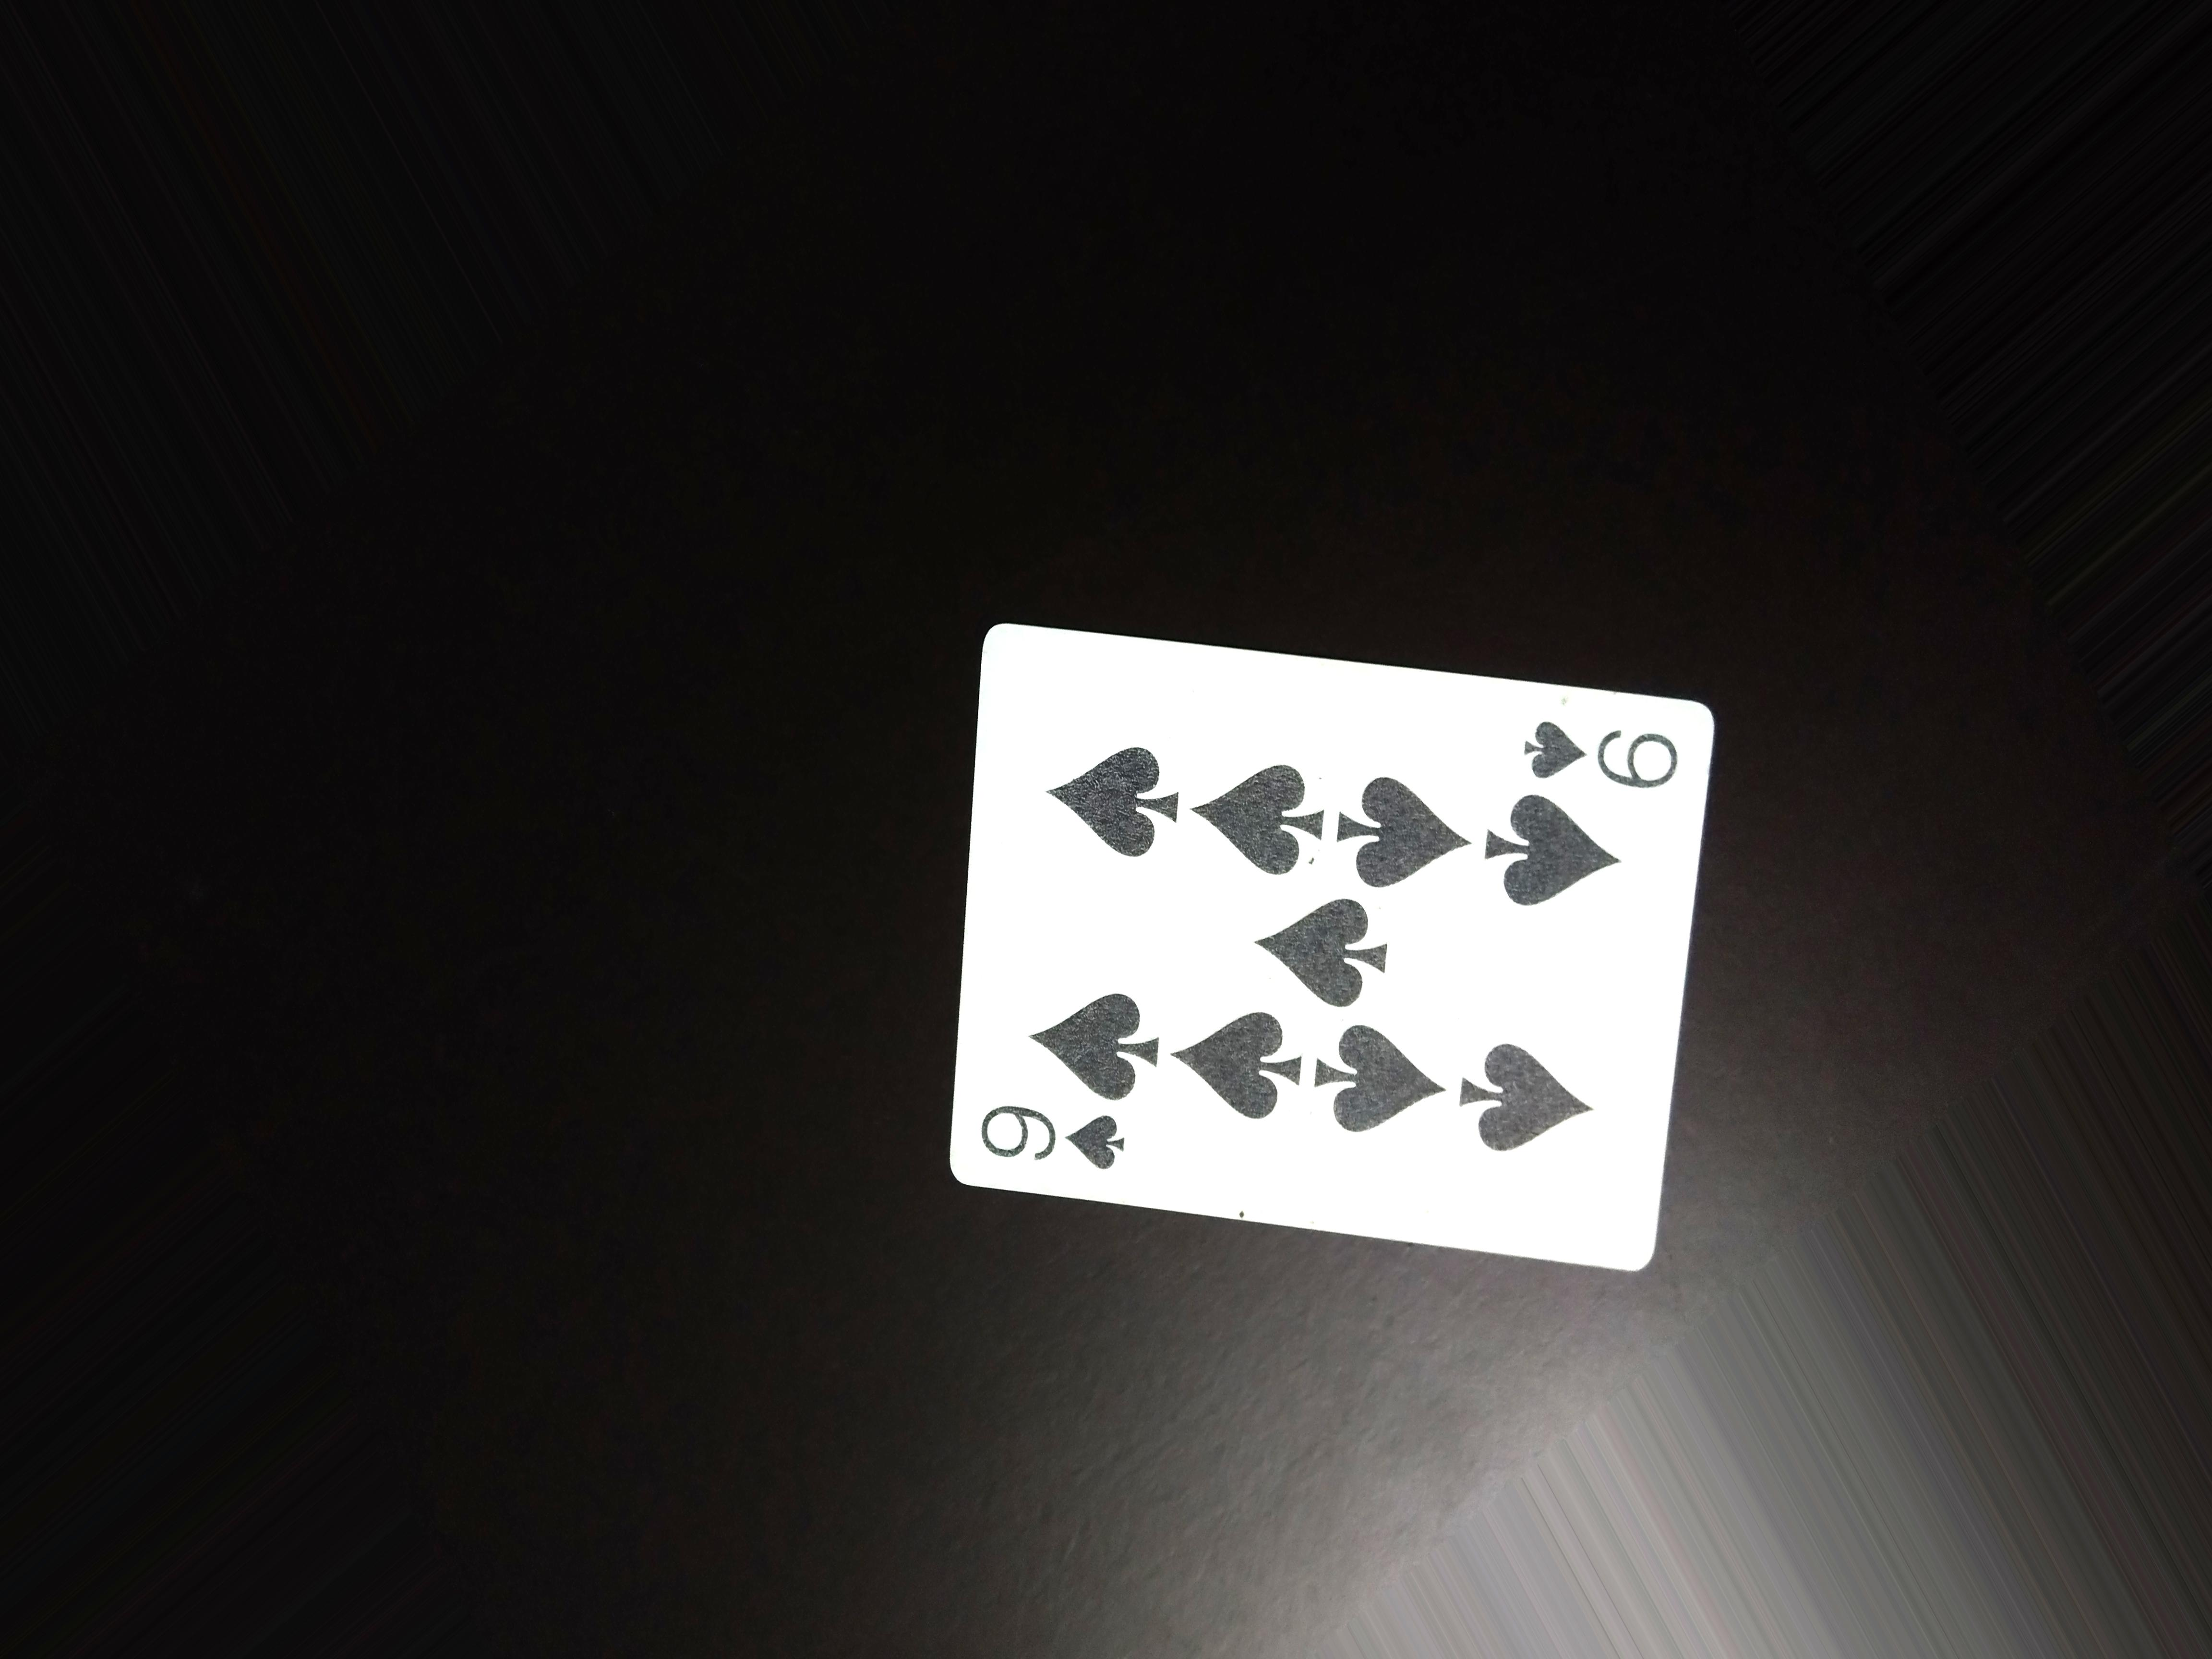9S: (1512, 706, 1707, 789)
